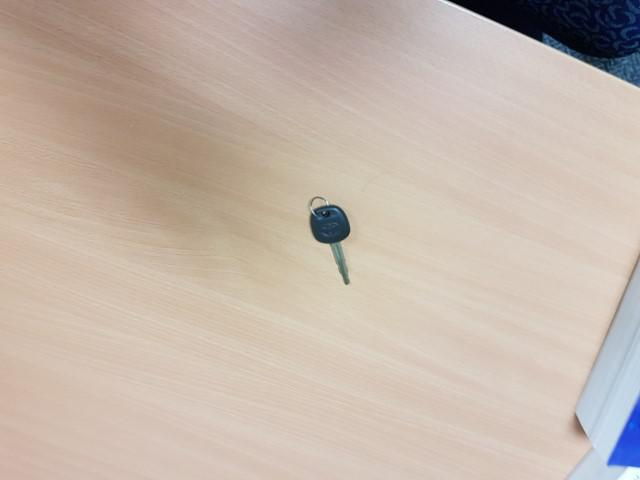key: (302, 200, 365, 289)
